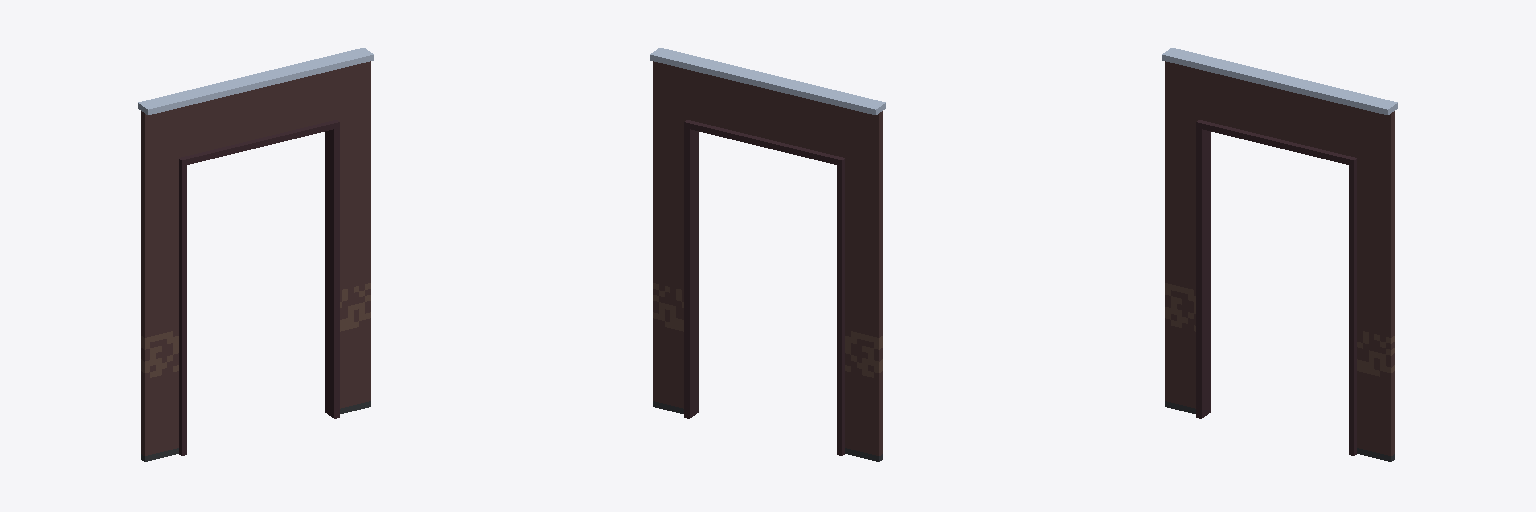
3 views of the same model, side by side, from view 1: azimuth 30°, elevation 25°; view 2: azimuth 150°, elevation 25°; view 3: azimuth 330°, elevation 25° (orthographic).
Visible parts, largest first — view 1: object 1; view 2: object 1; view 3: object 1.
Part boxes in pixels (left/top/right/bottom): object 1: left=138, top=48, right=373, bottom=461; object 1: left=650, top=48, right=885, bottom=461; object 1: left=1162, top=48, right=1397, bottom=461.
Bounding box in the file's own units: 4 × 6 × 0.3.
1 materials, 1 textured.